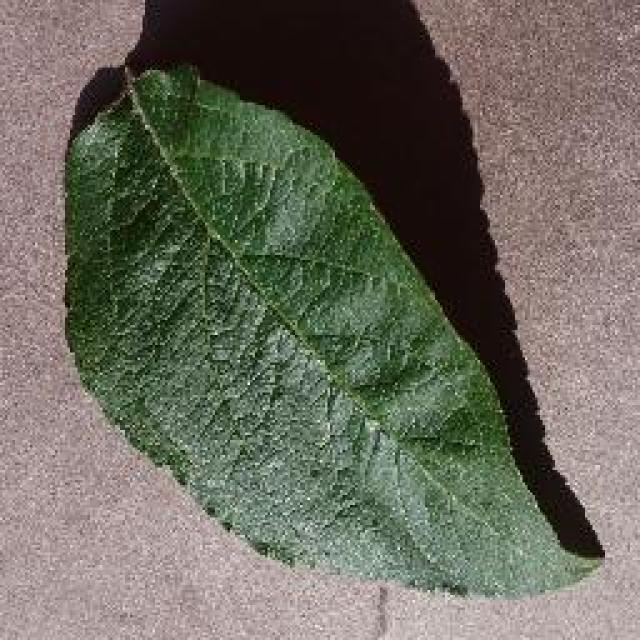apple healthy: (57, 0, 605, 598)
